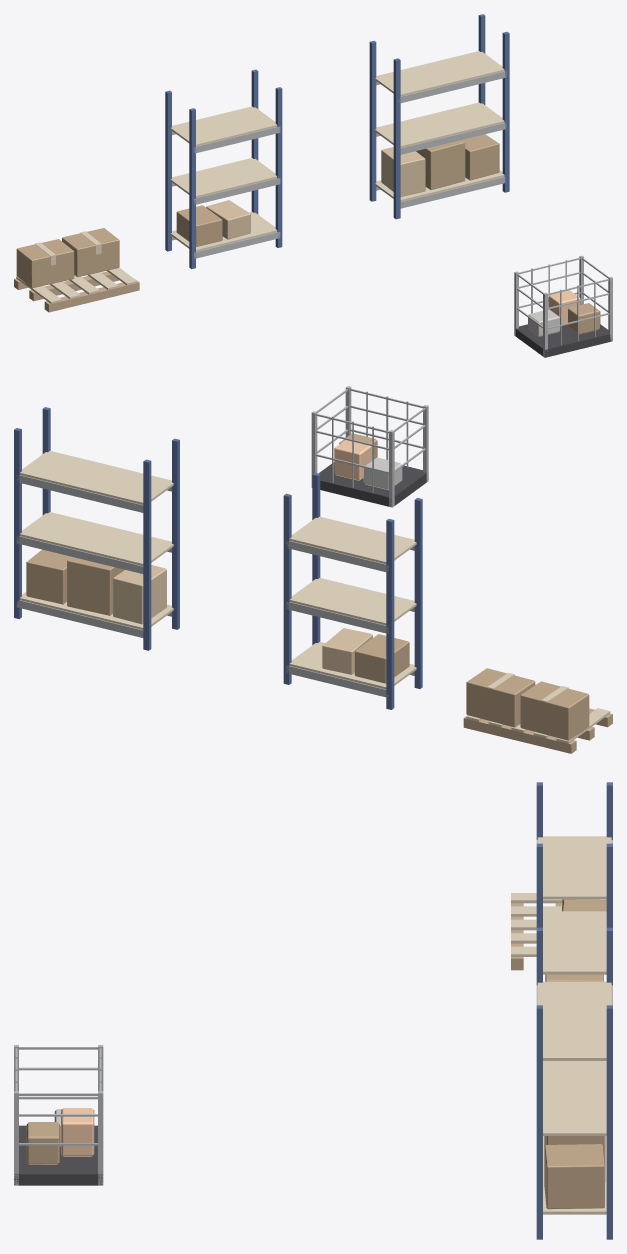
Rendered from einrichtung_lager_buehne.glb.
3 views of the same model, one above another, from view 1: azimuth 30°, elevation 25°; view 2: azimuth 150°, elevation 25°; view 3: azimuth 270°, elevation 25° (orthographic). The views are drawn at different scales.
Parts seen in each view (by area): view 1: einrichtung_lager_buehne; view 2: einrichtung_lager_buehne; view 3: einrichtung_lager_buehne.
Part boxes in pixels (<box>): einrichtung_lager_buehne: <box>14,14,612,357</box>; einrichtung_lager_buehne: <box>14,386,612,753</box>; einrichtung_lager_buehne: <box>14,782,612,1239</box>.
Size of the model in its own units: 6.2 by 2 by 4.7.
